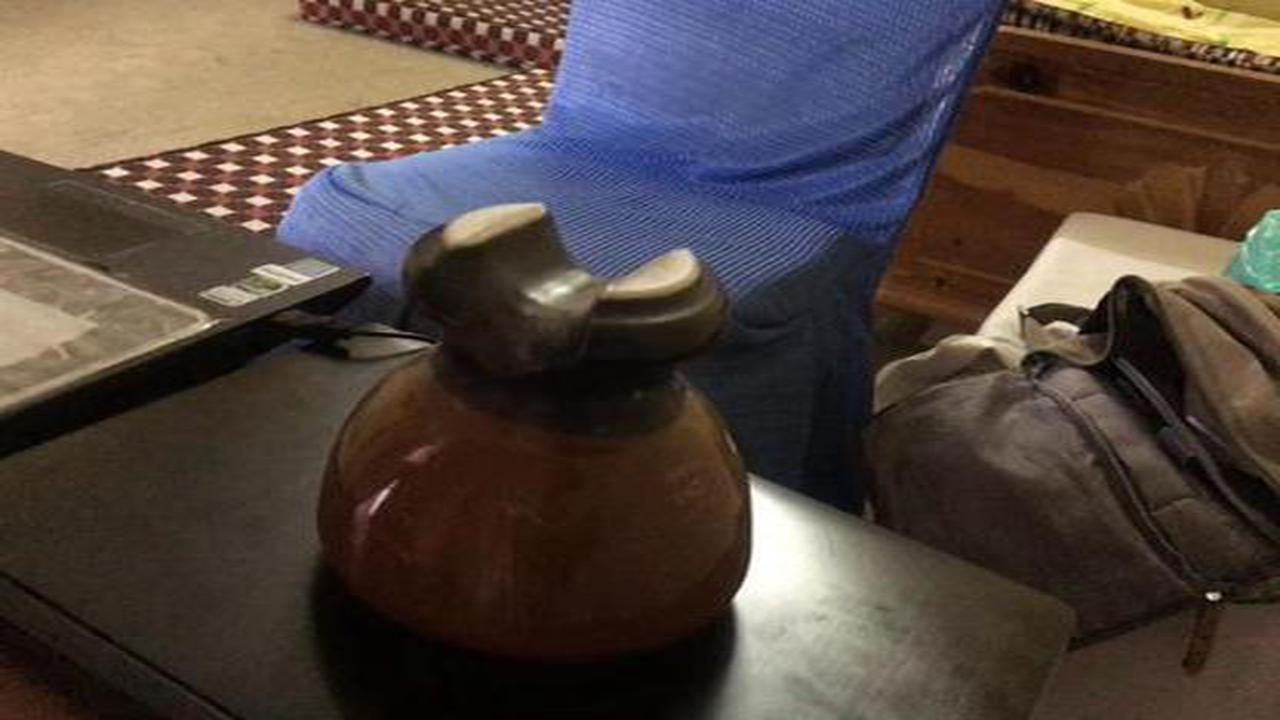insulator_pin: (299, 194, 776, 667)
